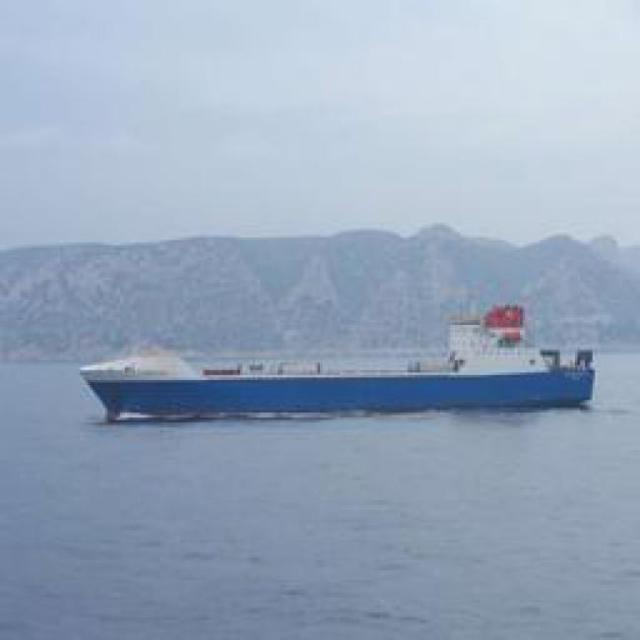boat: (69, 346, 604, 414)
